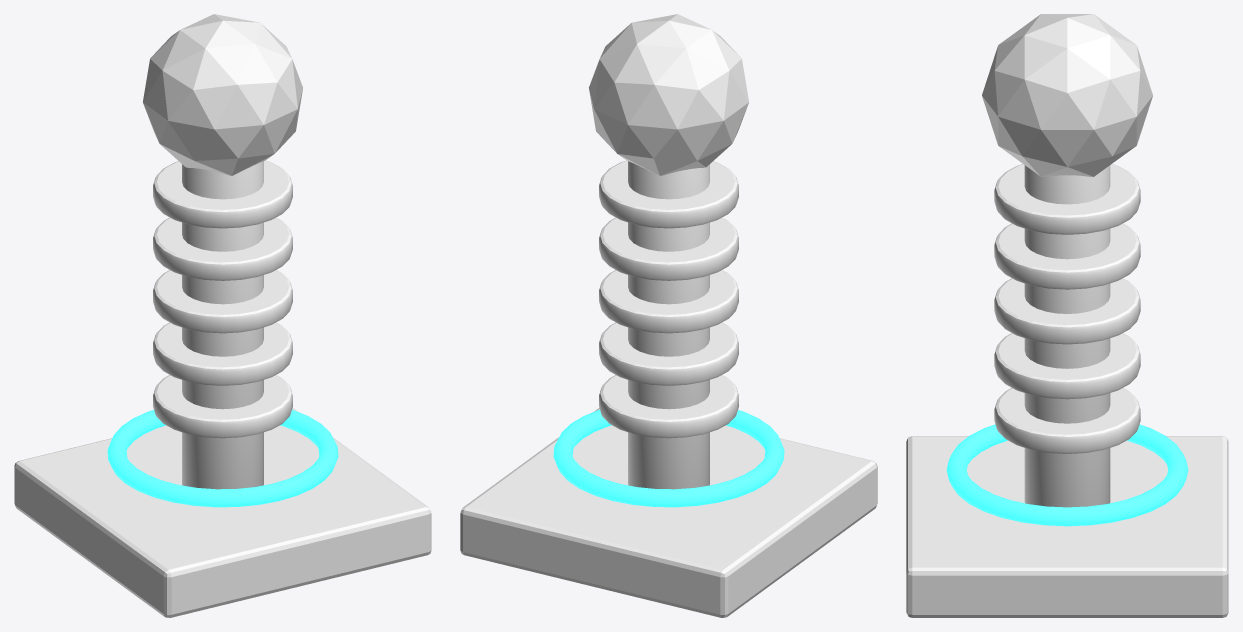
Rendered from SM_ElectrodePylon.glb.
The picture shows the model from 3 angles, left to right: view 1: azimuth 30°, elevation 25°; view 2: azimuth 150°, elevation 25°; view 3: azimuth 270°, elevation 25°; orthographic projection. The views are drawn at different scales.
Visible parts, largest first — view 1: SM_ElectrodePylon; view 2: SM_ElectrodePylon; view 3: SM_ElectrodePylon.
Boxes of the visible parts, x1,y1,x2,y2 form: SM_ElectrodePylon: (14, 14, 431, 617); SM_ElectrodePylon: (460, 14, 877, 617); SM_ElectrodePylon: (906, 14, 1228, 617).
Size of the model in its own units: 0.64 by 1.17 by 0.64.
